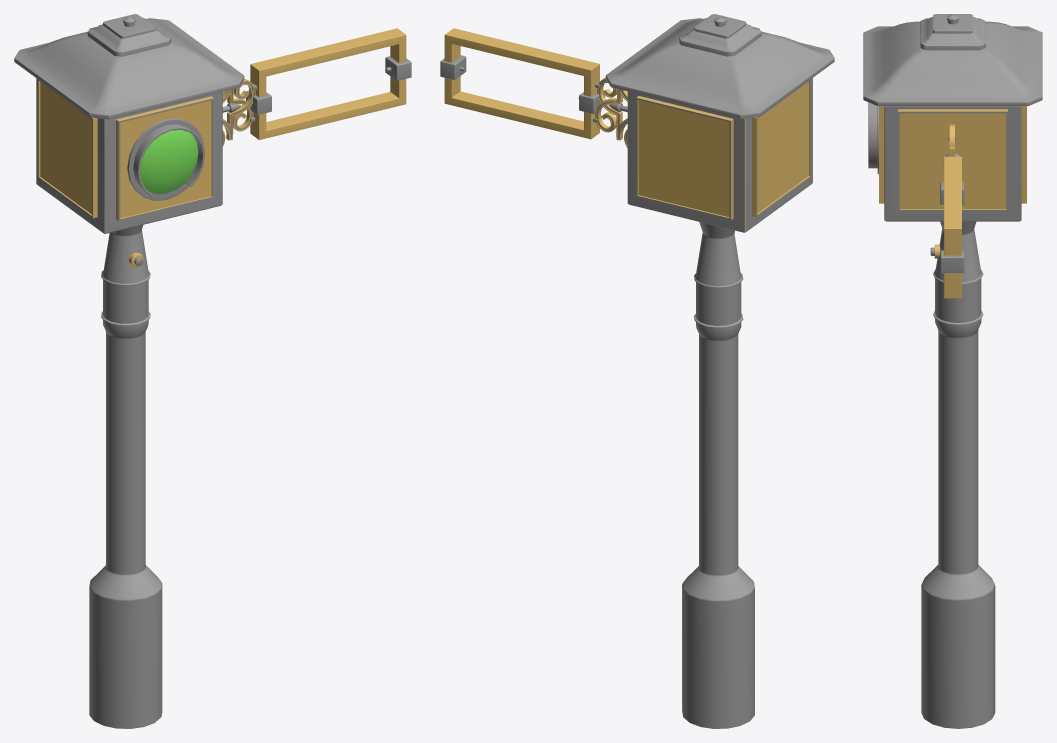
Rendered from SP_Traffic_Light.fbx.
3 views of the same model, side by side, from view 1: azimuth 30°, elevation 25°; view 2: azimuth 150°, elevation 25°; view 3: azimuth 270°, elevation 25° (orthographic).
Parts seen in each view (by area): view 1: SP_Traffic_Light; view 2: SP_Traffic_Light; view 3: SP_Traffic_Light.
Boxes of the visible parts, x1,y1,x2,y2 form: SP_Traffic_Light: (14, 14, 411, 728); SP_Traffic_Light: (440, 14, 834, 728); SP_Traffic_Light: (863, 14, 1042, 728).
Size of the model in its own units: 2.28 by 4.3 by 1.
